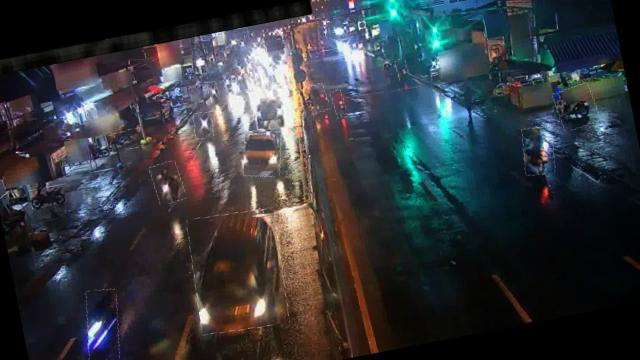Bike: (79, 286, 127, 360), (553, 82, 600, 131), (519, 125, 558, 177), (150, 160, 186, 206), (298, 82, 330, 116), (29, 183, 70, 209), (109, 127, 144, 152), (192, 110, 216, 140), (330, 89, 348, 119), (395, 58, 410, 82), (206, 80, 220, 103)
Car: (182, 205, 294, 338), (238, 126, 286, 180), (252, 94, 288, 131)
